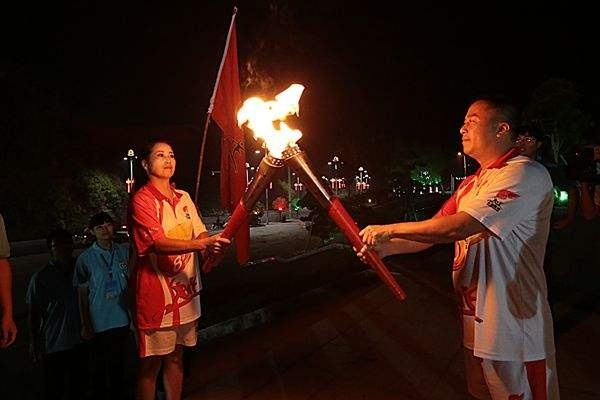fire: (234, 80, 305, 158)
